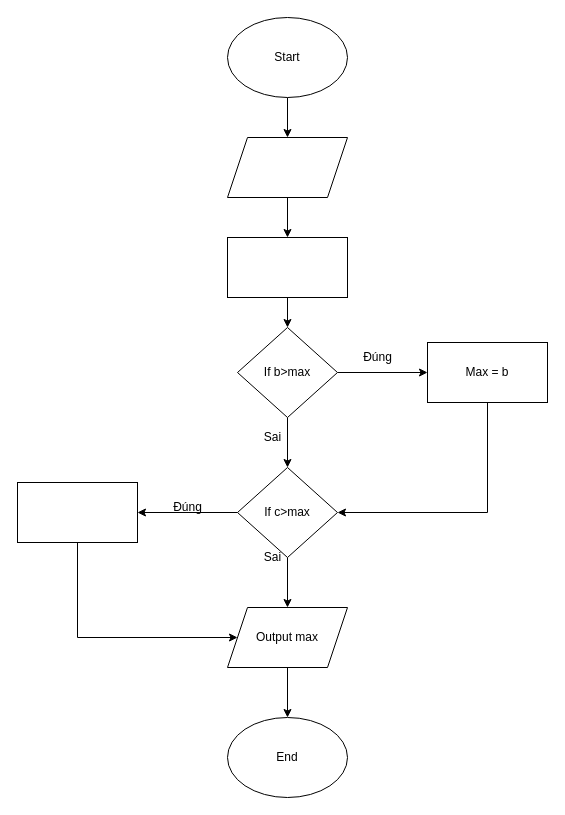
The diagram is 565 pixels wide and 815 high, and some of its shapes have lost their labels. The centre of each missing label's shape, as x and y in pixels:
"Input a, b, c" belongs at (x=287, y=167).
"Max = a" belongs at (x=287, y=267).
"Max = c" belongs at (x=77, y=512).
